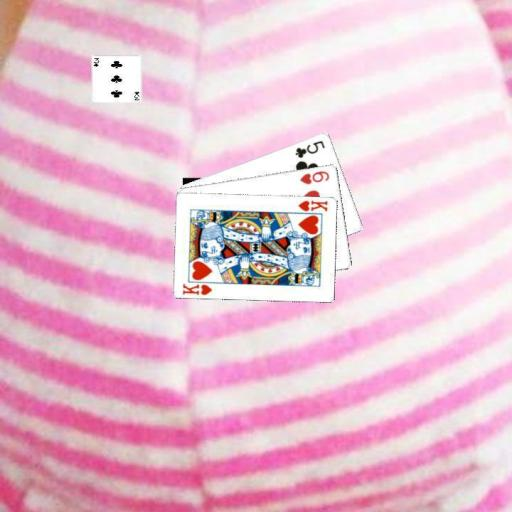card-corner: (292, 138, 326, 160), (297, 167, 331, 186), (179, 280, 214, 296), (295, 197, 329, 213)
